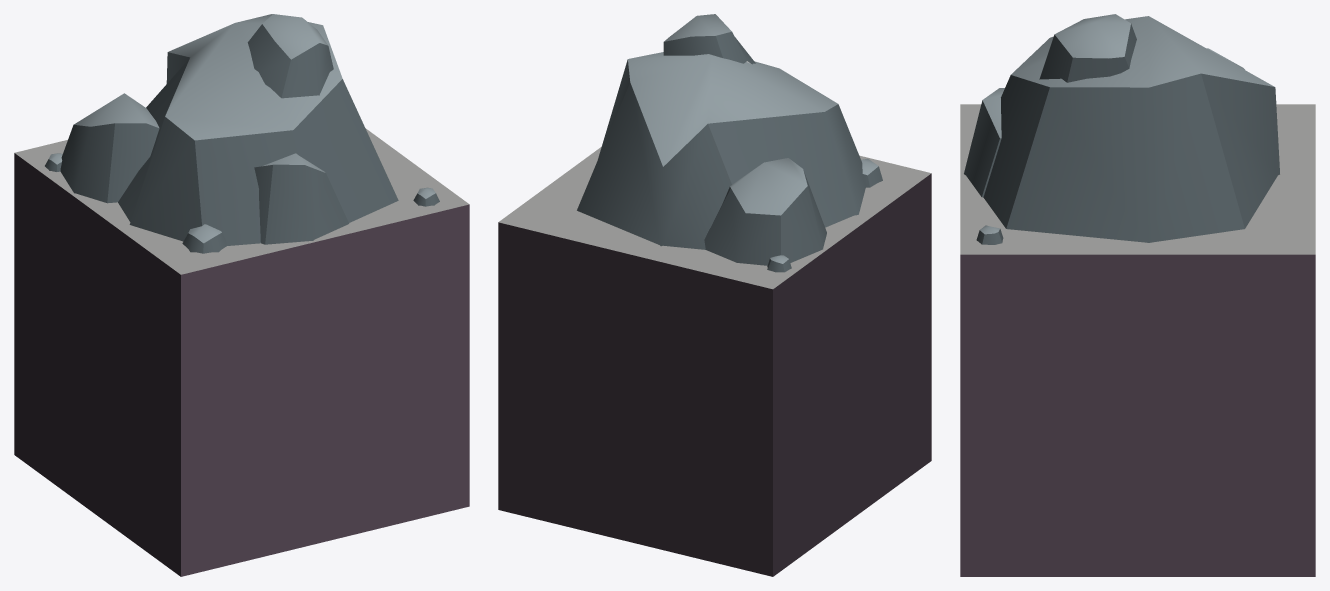
File: tile_obstacle_rock03.FBX
3 views of the same model, side by side, from view 1: azimuth 30°, elevation 25°; view 2: azimuth 150°, elevation 25°; view 3: azimuth 270°, elevation 25° (orthographic). The views are drawn at different scales.
Parts seen in each view (by area): view 1: tile_obstacle_rock03; view 2: tile_obstacle_rock03; view 3: tile_obstacle_rock03.
Boxes of the visible parts, x1,y1,x2,y2 form: tile_obstacle_rock03: (14,14,469,576); tile_obstacle_rock03: (498,14,931,576); tile_obstacle_rock03: (960,14,1315,576).
Size of the model in its own units: 39.37 by 61.05 by 39.37.
